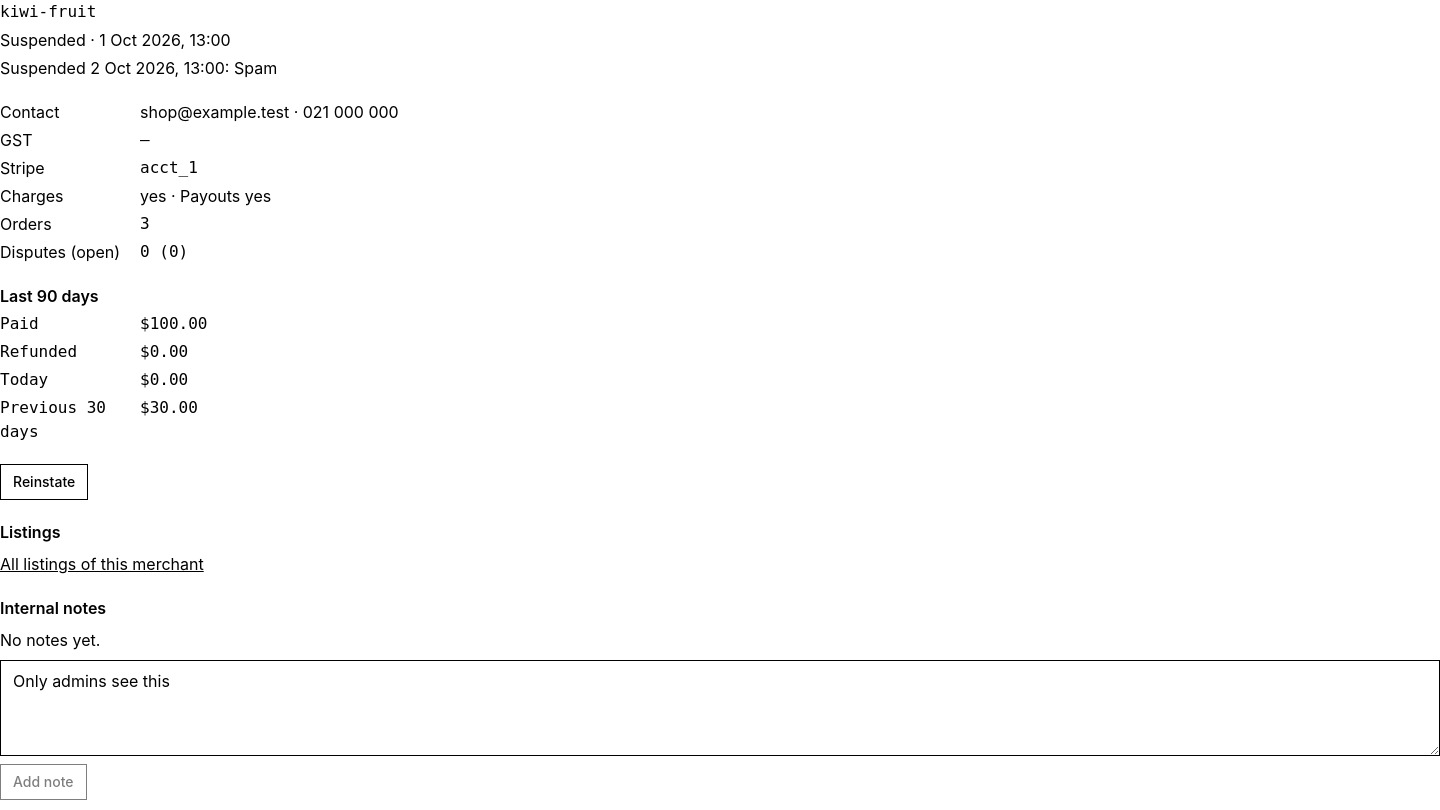
Test: MerchantDetail › keeps the dialog open with the error when the write is refused
This screenshot has width=1440, height=810.
Click the button "Reinstate" at (44, 482), box x1=0 y1=464 x2=88 y2=500
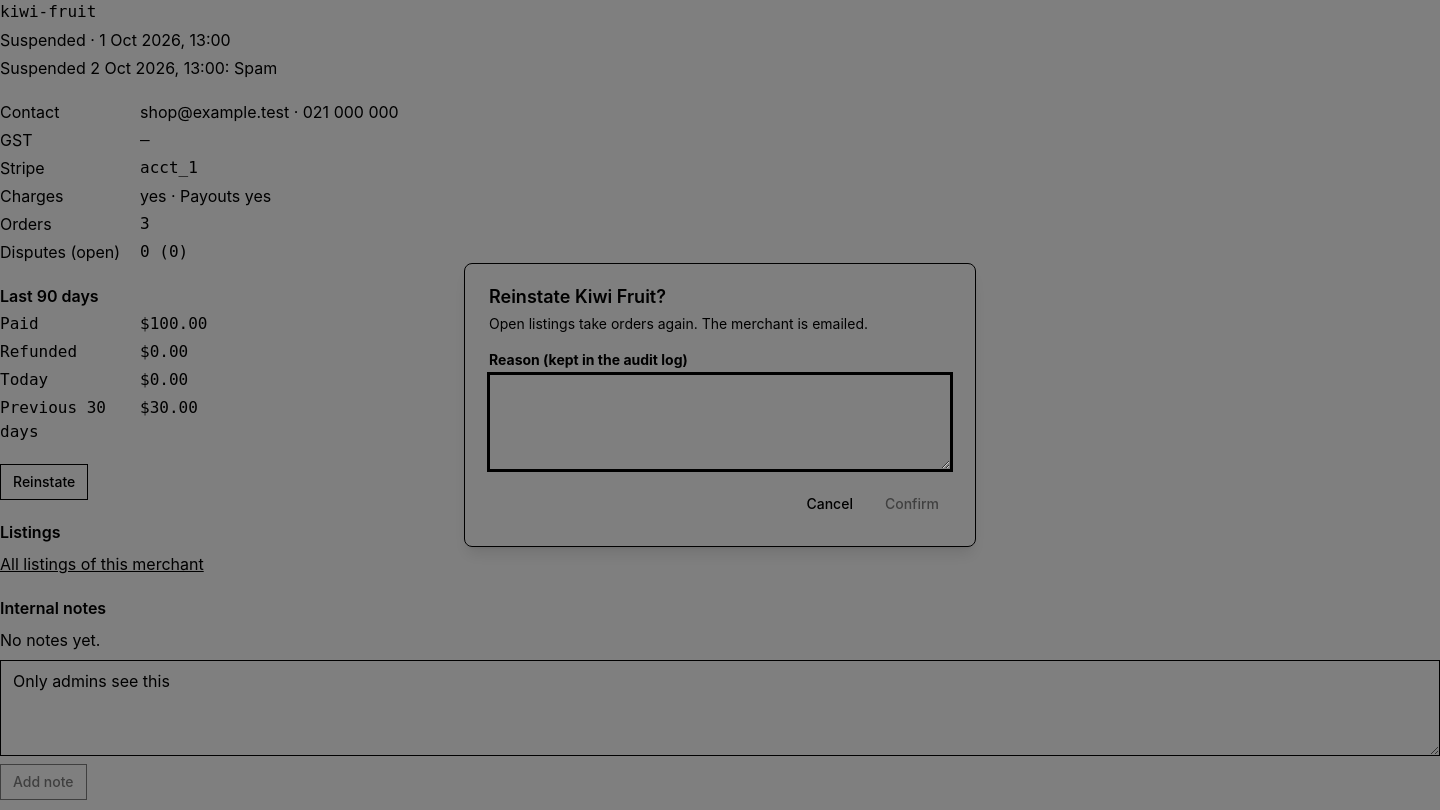
Type "Cleared" into the text box labelled "Reason (kept in the audit log)" at (720, 422), box x1=489 y1=374 x2=951 y2=470
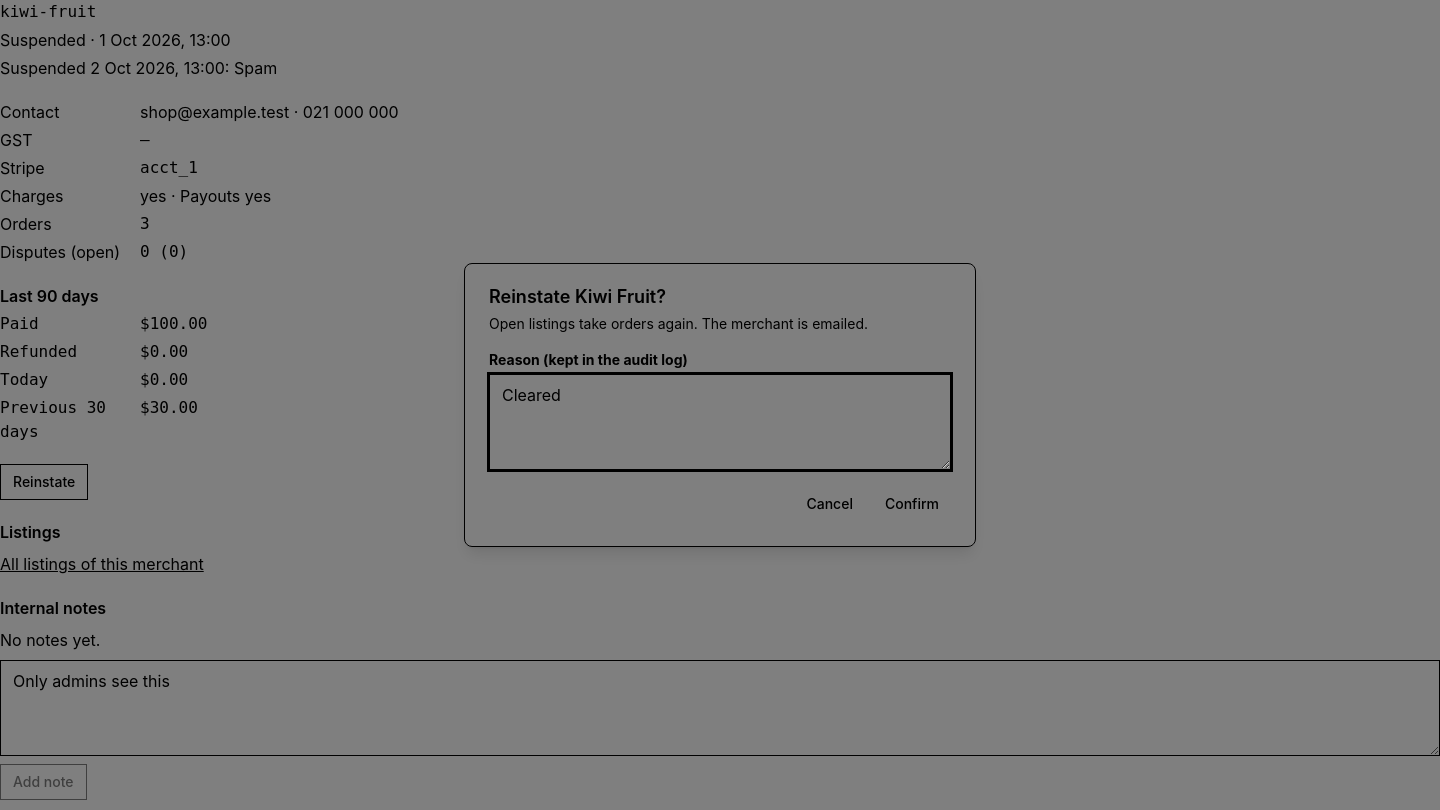
Click the button "Confirm" at (912, 504), box x1=873 y1=486 x2=951 y2=522
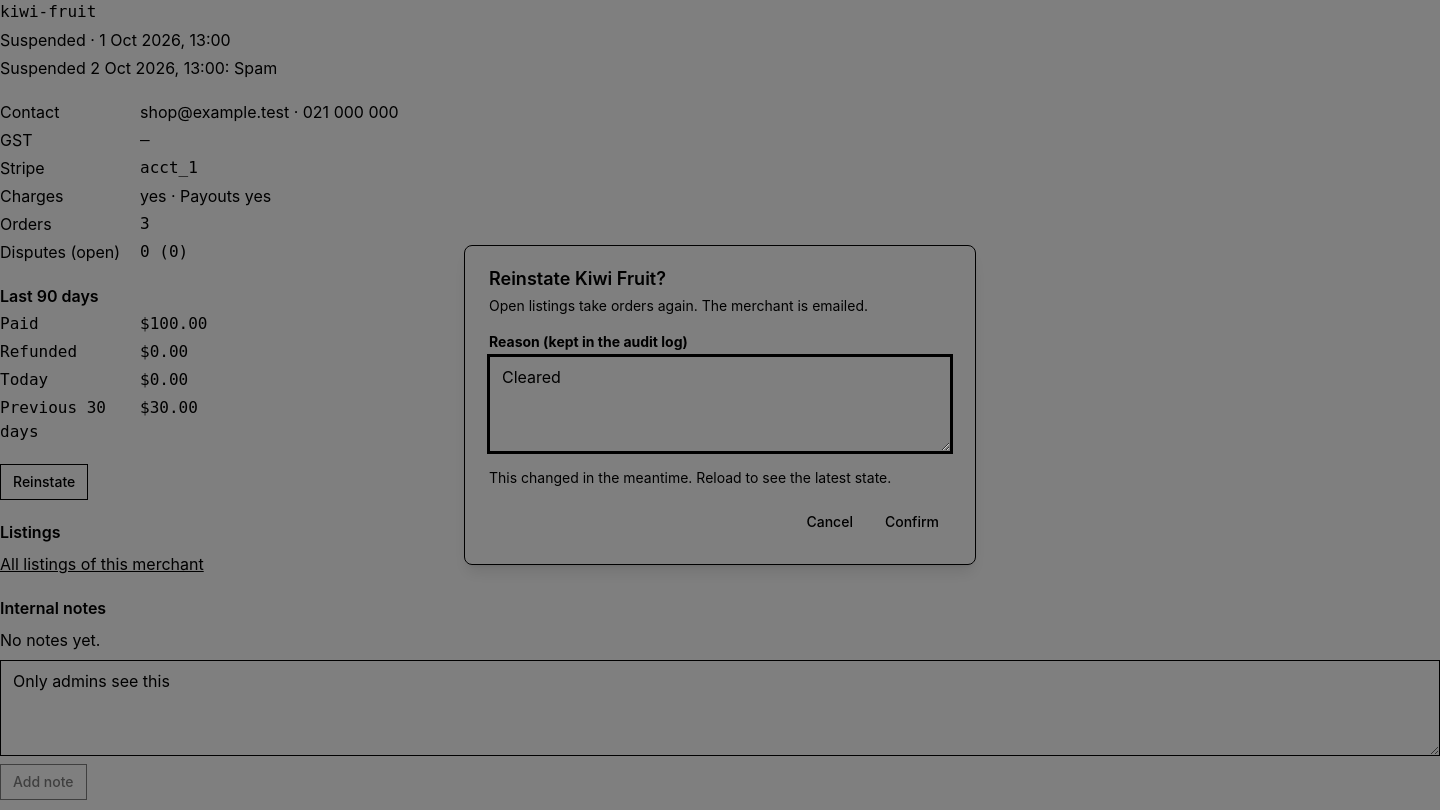
expect the message reads "This changed in the meantime. Reload to see the latest state.": met, box x1=489 y1=469 x2=891 y2=486
